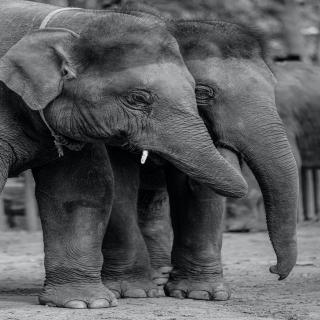Elephant: (0, 0, 253, 312)
